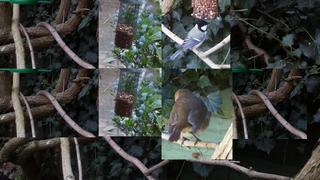great tit: (170, 20, 210, 61)
robin: (167, 89, 212, 148)
